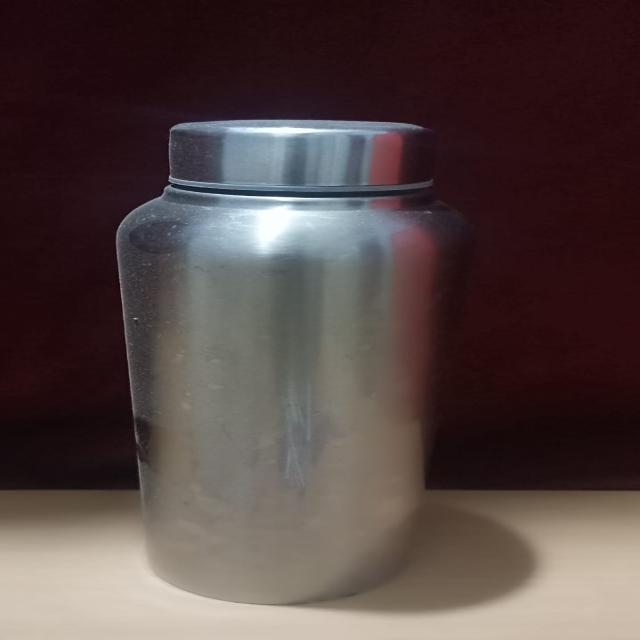bottle: (102, 111, 453, 613)
